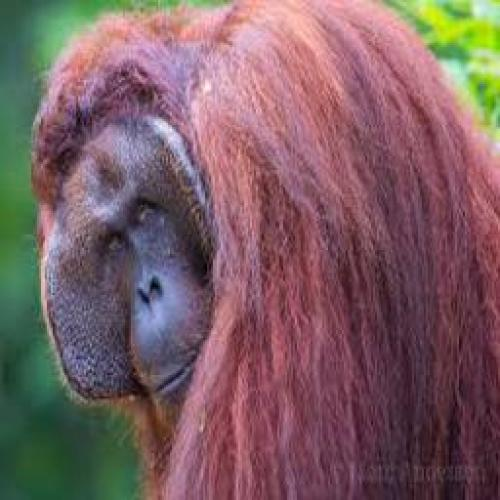orangutan-endangered: (34, 9, 492, 494)
